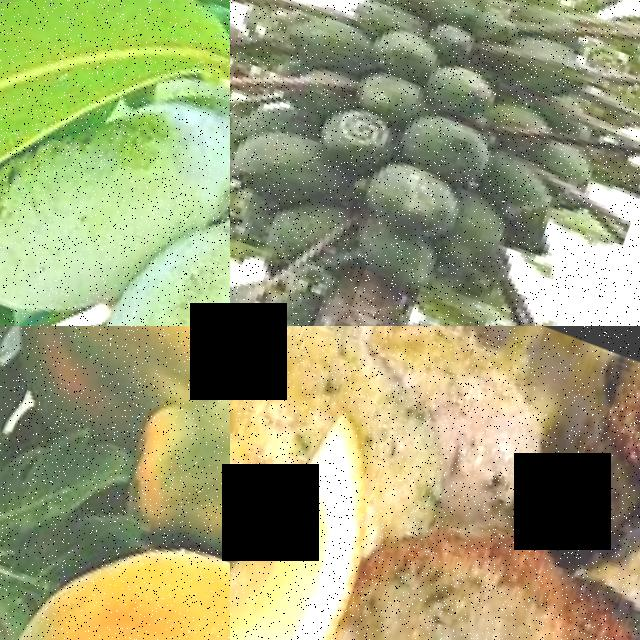lemon: (230, 397, 408, 640)
pawpaw: (0, 495, 207, 640), (90, 430, 230, 640), (0, 326, 210, 454), (355, 149, 478, 249), (230, 111, 338, 216), (394, 102, 496, 187), (351, 215, 446, 294)
